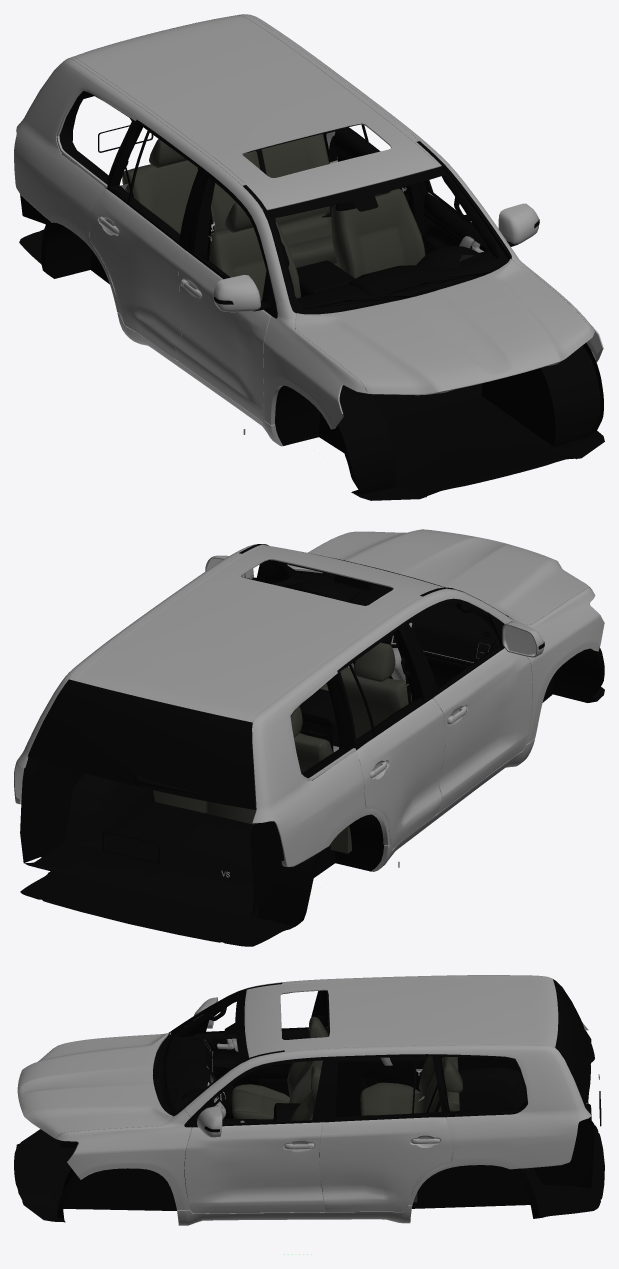
Rendered from car-old-2.glb.
3 renders of one model, top to bottom at view 1: azimuth 30°, elevation 25°; view 2: azimuth 150°, elevation 25°; view 3: azimuth 270°, elevation 25°, orthographic. The views are drawn at different scales.
Parts seen in each view (by area): view 1: Top Panel_31, Bottom Cap_19, Hood_23, Seats_1, Rear Side Panel_26, Rear Door_R_12, Front Door_R_11, Front Side Panel_22, Interior_4, Dashboard_3, Front Wind sheild Rim_5, Front Door_L_10 (+6 smaller); view 2: Top Panel_31, Interior Floor_8, Rear Windsheild_77, Rear Side Panel_26, Bottom Cap_19, Hood_23, Front Door_R_11, Rear Door_R_12, Interior_4, Seats_1, Dashboard_3, Front Side Panel_22 (+3 smaller); view 3: Top Panel_31, Bottom Cap_19, Rear Side Panel_26, Front Door_L_10, Rear Door_L_9, Hood_23, Seats_1, Front Side Panel_22, Interior_4, Rear Door_R_12, Dashboard_3, Front Door_R_11 (+7 smaller).
Boxes of the visible parts, <box> form: Top Panel_31: <box>68,14,441,210</box>; Bottom Cap_19: <box>19,220,604,500</box>; Hood_23: <box>295,259,592,395</box>; Seats_1: <box>122,134,425,300</box>; Rear Side Panel_26: <box>14,14,507,313</box>; Rear Door_R_12: <box>89,119,204,359</box>; Front Door_R_11: <box>176,170,274,422</box>; Front Side Panel_22: <box>262,243,603,429</box>; Interior_4: <box>20,90,499,421</box>; Dashboard_3: <box>297,246,498,308</box>; Front Wind sheild Rim_5: <box>267,166,508,313</box>; Front Door_L_10: <box>422,180,518,255</box>; Top Panel_31: <box>69,544,447,722</box>; Interior Floor_8: <box>24,773,253,916</box>; Rear Windsheild_77: <box>27,679,255,809</box>; Rear Side Panel_26: <box>14,544,510,866</box>; Bottom Cap_19: <box>20,637,604,946</box>; Hood_23: <box>289,529,592,624</box>; Front Door_R_11: <box>402,599,532,813</box>; Rear Door_R_12: <box>336,623,445,849</box>; Interior_4: <box>20,560,495,916</box>; Seats_1: <box>153,642,411,853</box>; Dashboard_3: <box>273,572,500,687</box>; Front Side Panel_22: <box>288,532,604,744</box>; Top Panel_31: <box>244,975,558,1059</box>; Bottom Cap_19: <box>14,1085,604,1222</box>; Rear Side Panel_26: <box>184,975,591,1204</box>; Front Door_L_10: <box>184,1056,330,1213</box>; Rear Door_L_9: <box>319,1054,452,1211</box>; Hood_23: <box>17,1032,172,1138</box>; Seats_1: <box>231,1016,462,1202</box>; Front Side Panel_22: <box>55,1032,194,1210</box>; Interior_4: <box>174,990,594,1210</box>; Rear Door_R_12: <box>326,1019,427,1117</box>; Dashboard_3: <box>166,1034,226,1119</box>; Front Door_R_11: <box>195,990,321,1147</box>.
Bounding box in the file's own units: 2.74 × 2.49 × 5.46.
Materials: 61 (2 with a texture image).
